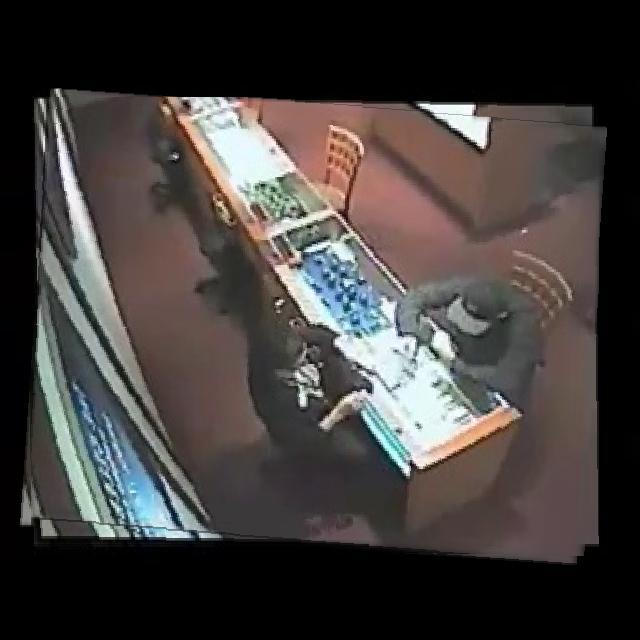Normal: (25, 97, 599, 556)
